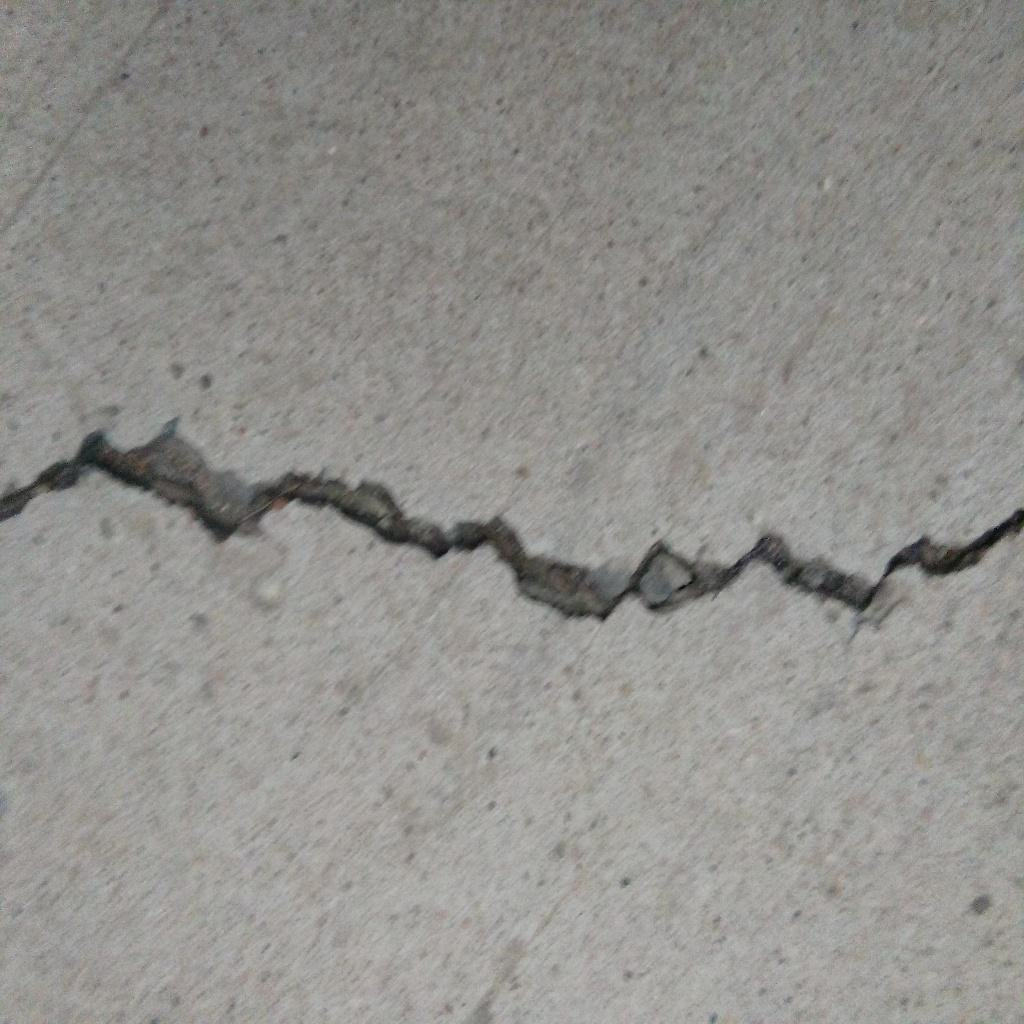Crack: (1, 418, 1024, 622)
